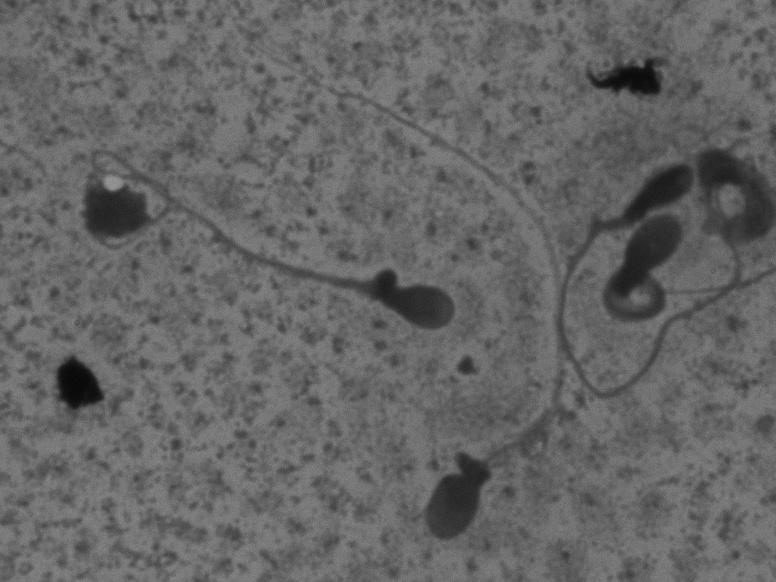Abnormal: (241, 30, 574, 551), (80, 140, 481, 362), (543, 141, 752, 410), (598, 213, 749, 350)
